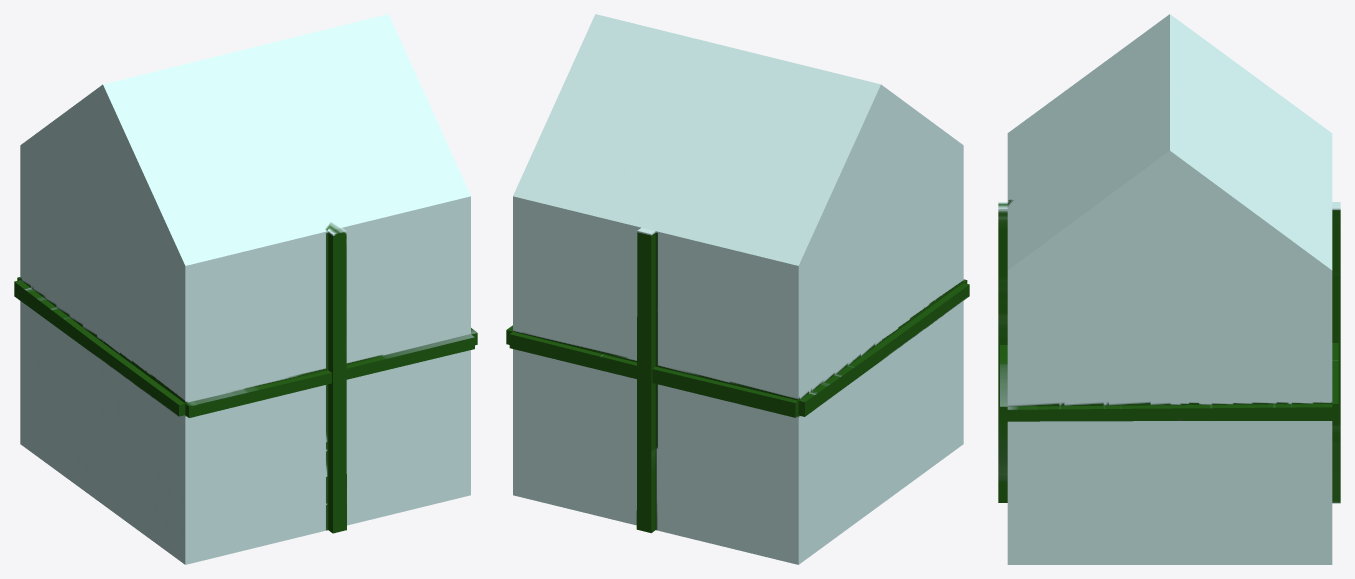
The model's file is greenhouse.fbx.
The picture shows the model from 3 angles, left to right: view 1: azimuth 30°, elevation 25°; view 2: azimuth 150°, elevation 25°; view 3: azimuth 270°, elevation 25°; orthographic projection.
Parts seen in each view (by area): view 1: Cube; view 2: Cube; view 3: Cube.
Part boxes in pixels (<box>): Cube: <box>14,14,477,564</box>; Cube: <box>506,14,969,564</box>; Cube: <box>998,14,1340,564</box>.
Size of the model in its own units: 876 by 1179 by 883.
1 material, 1 textured.
